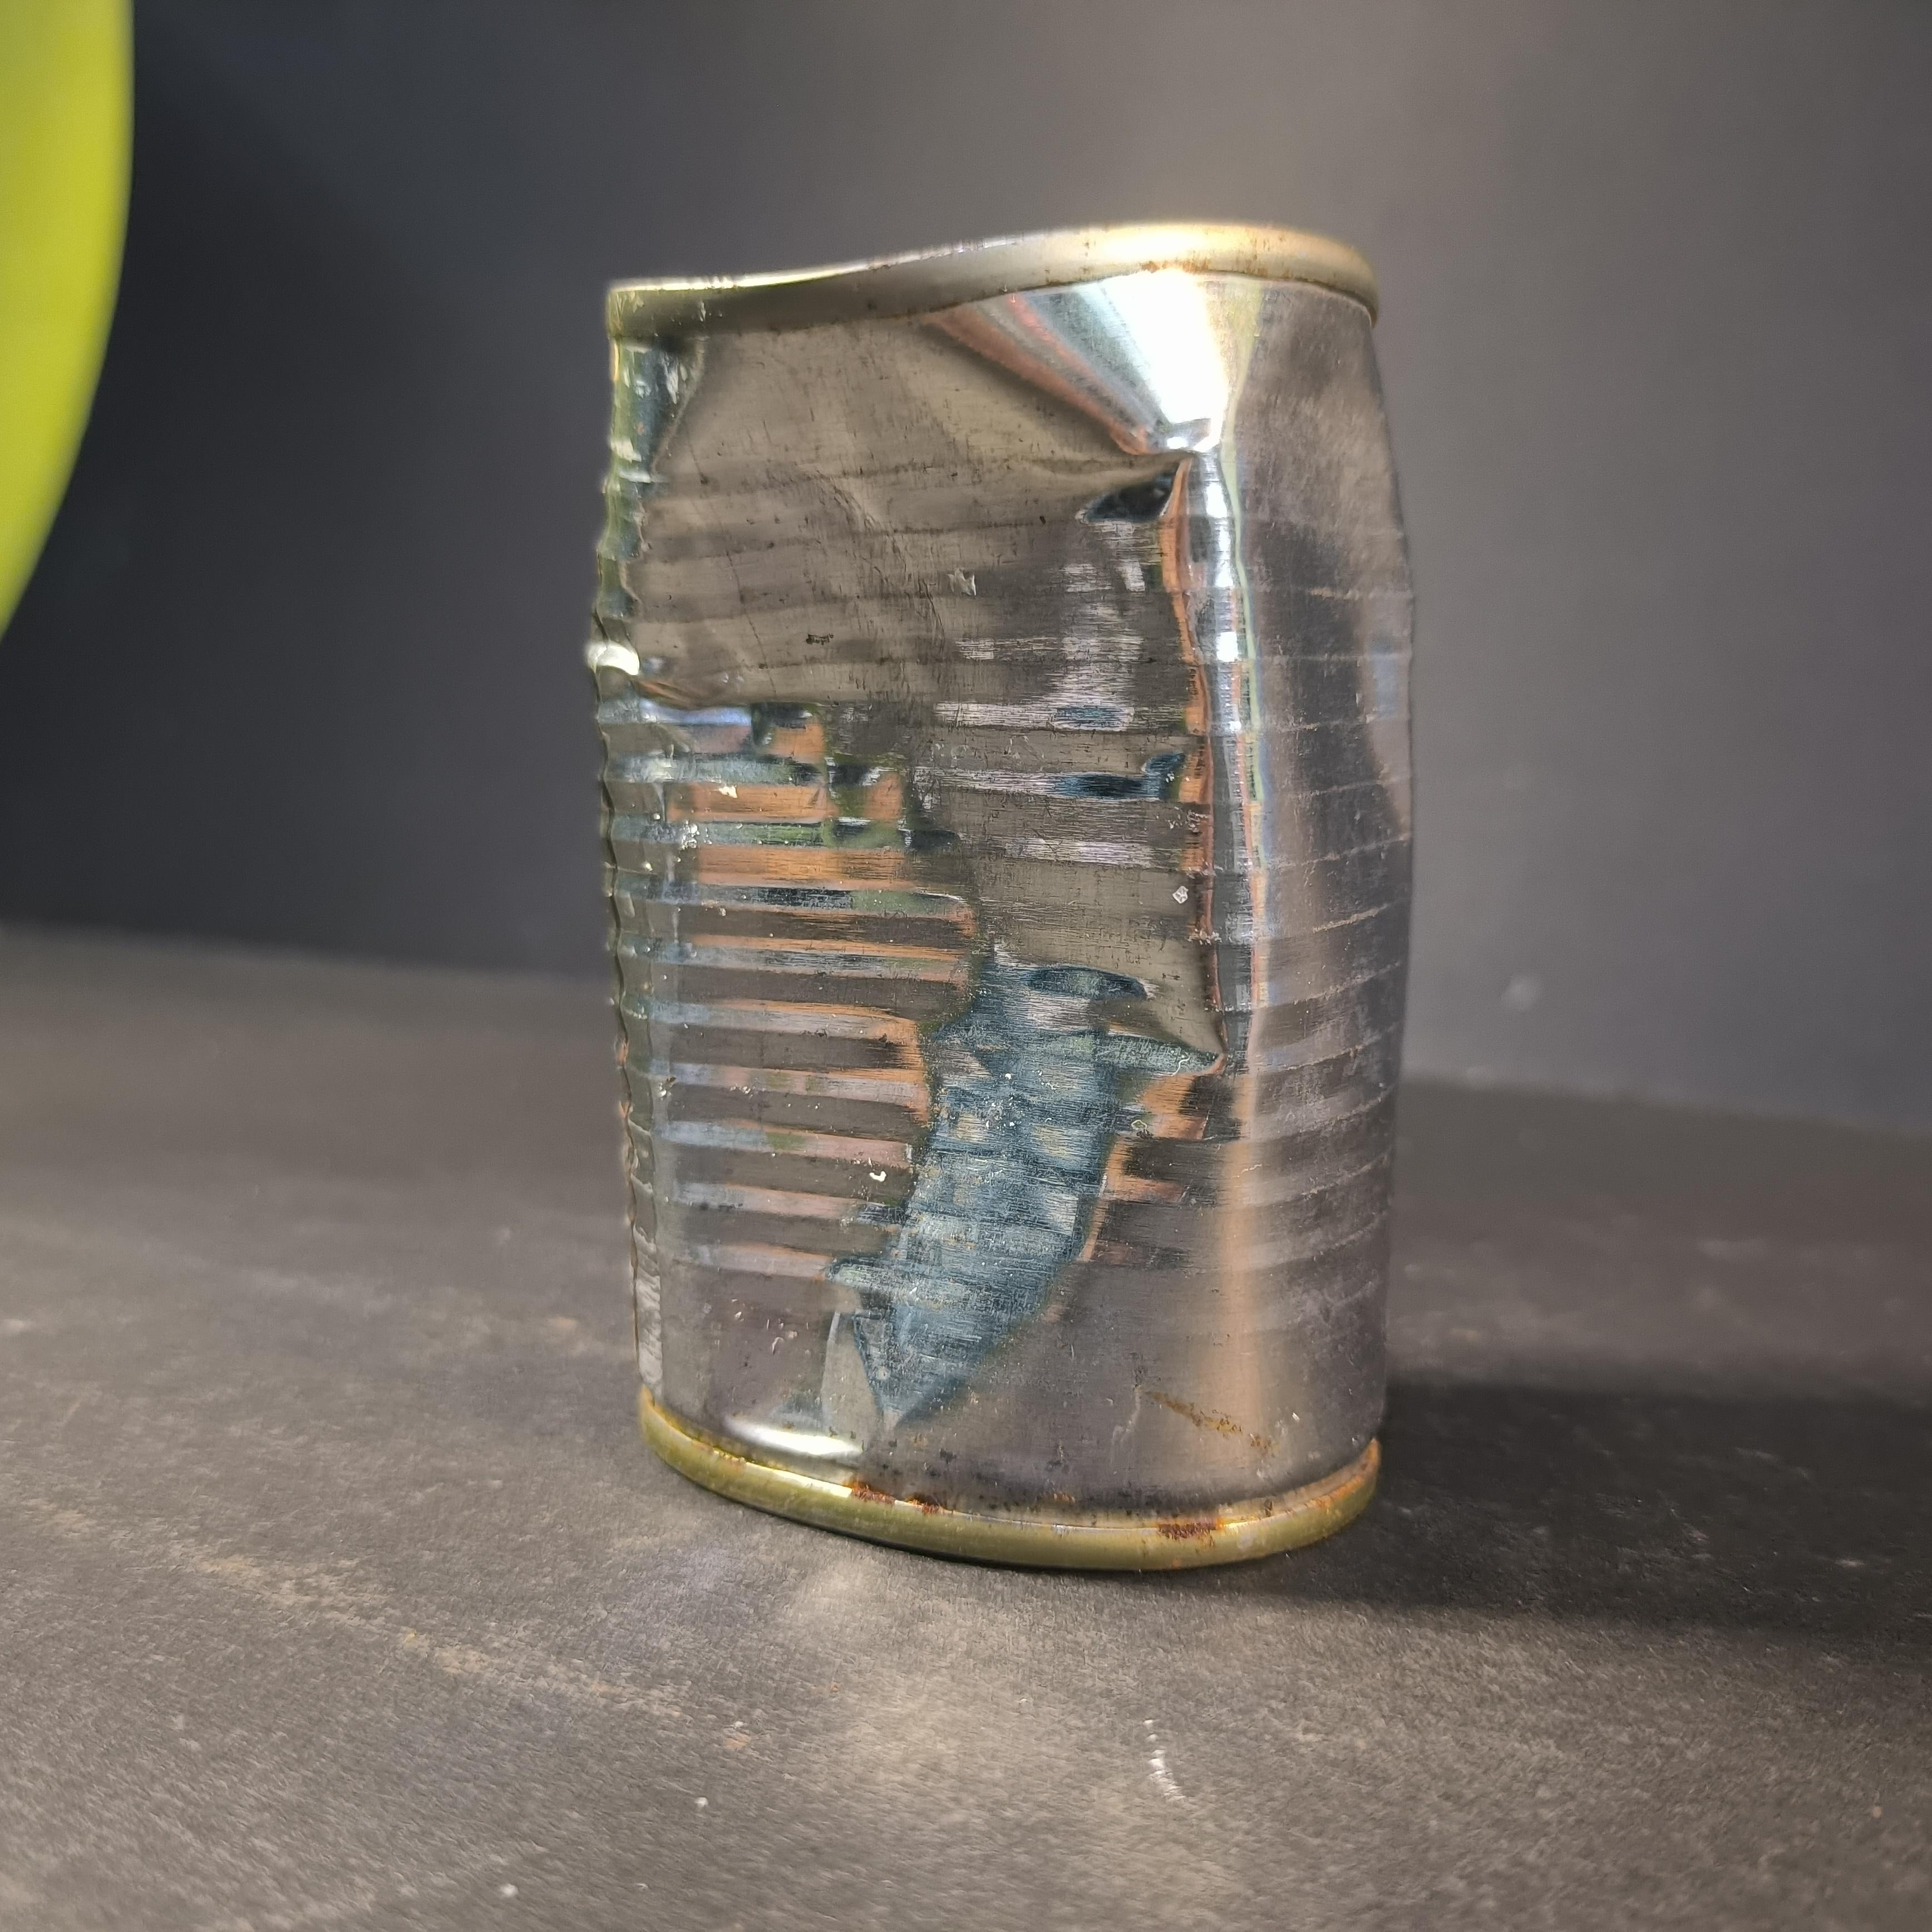Dented: (548, 186, 1435, 1580)
